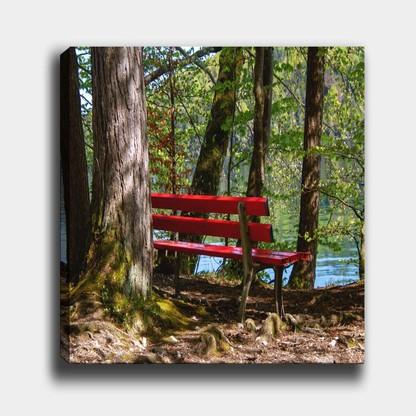obstacle: (139, 180, 313, 333)
